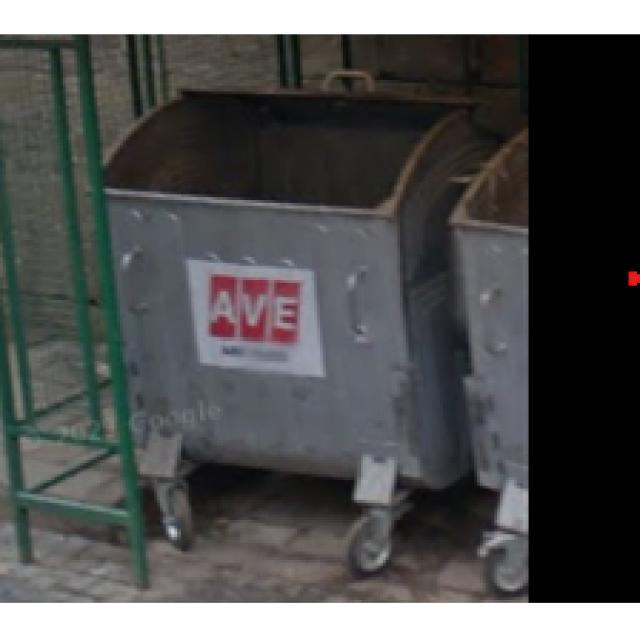general wastetrash bin: (92, 78, 453, 591)
